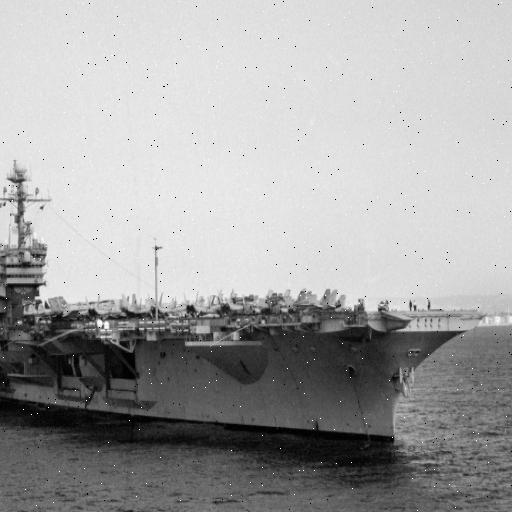Portanaves: (1, 151, 491, 472)
